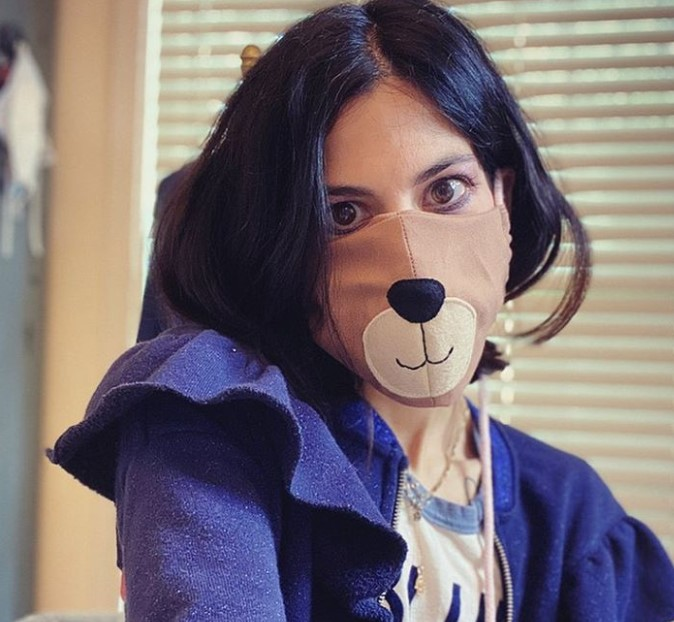face_with_mask: (212, 10, 542, 405)
